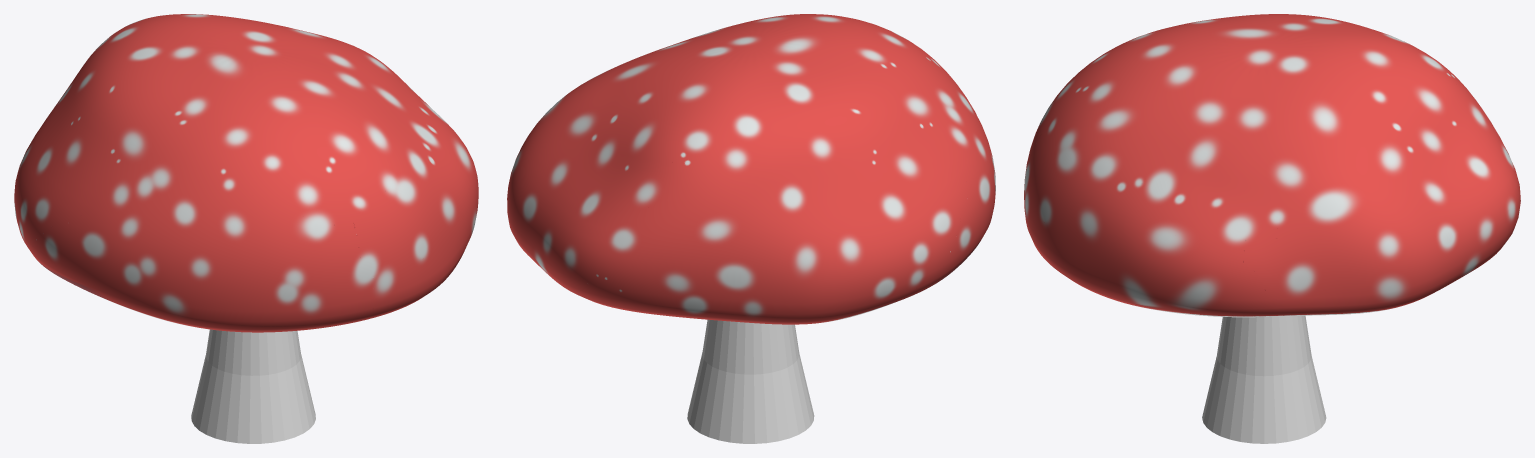
The model's file is ToadStool.fbx.
3 views of the same model, side by side, from view 1: azimuth 30°, elevation 25°; view 2: azimuth 150°, elevation 25°; view 3: azimuth 270°, elevation 25° (orthographic). The views are drawn at different scales.
Visible parts, largest first — view 1: Sphere, Cylinder; view 2: Sphere, Cylinder; view 3: Sphere, Cylinder.
Boxes of the visible parts, box(x1,y1,x2,y2) form: Sphere: box(14, 14, 478, 332); Cylinder: box(191, 329, 315, 443); Sphere: box(507, 14, 995, 324); Cylinder: box(687, 319, 814, 443); Sphere: box(1024, 14, 1520, 317); Cylinder: box(1202, 315, 1326, 443).
Bounding box in the file's own units: 973 × 854 × 1046.
